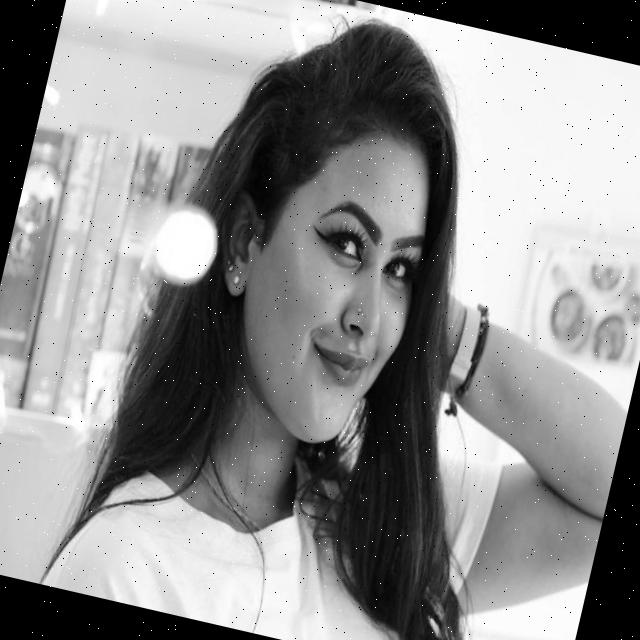Happiness: (222, 115, 449, 462)
